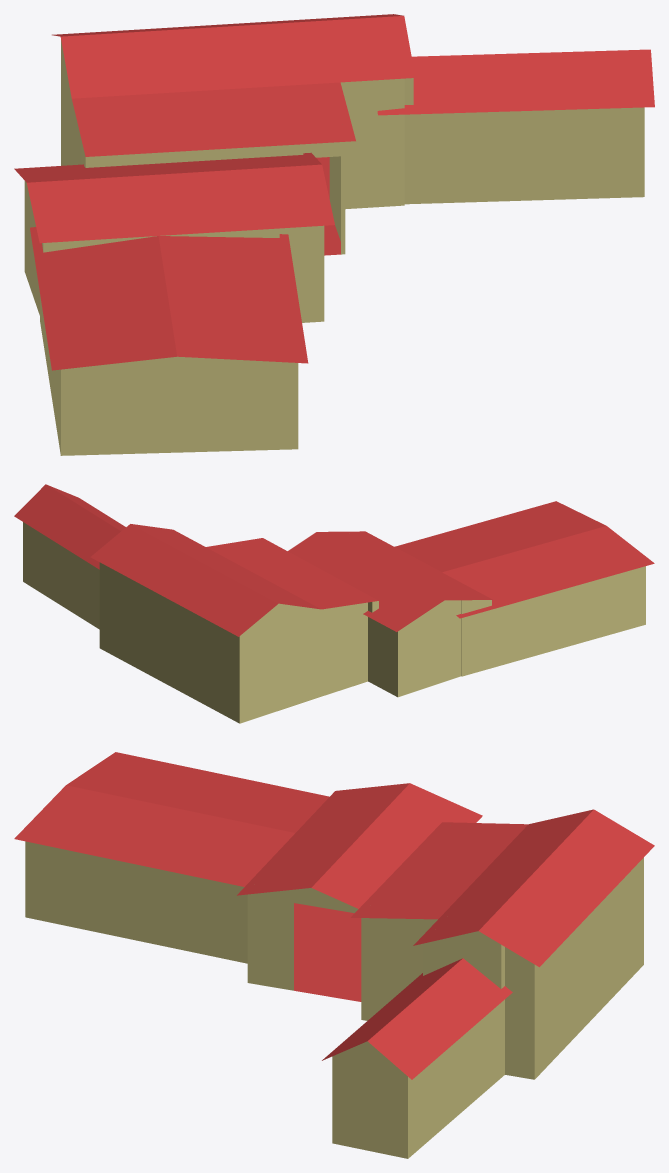
3 views of the same model, one above another, from view 1: azimuth 30°, elevation 25°; view 2: azimuth 150°, elevation 25°; view 3: azimuth 270°, elevation 25° (orthographic). The views are drawn at different scales.
Size of the model in its own units: 69.11 by 56.43 by 13.9.
